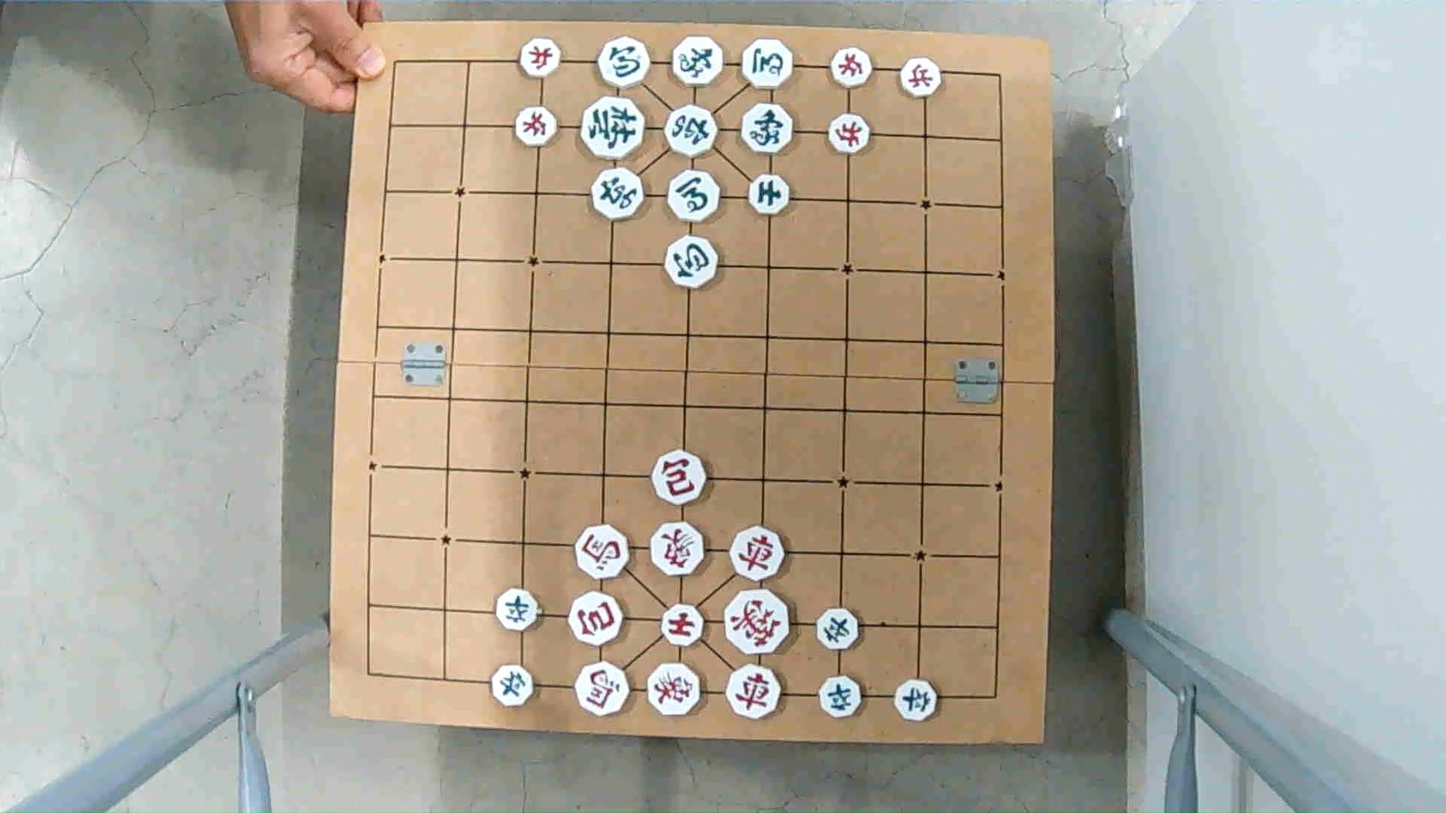cha_green: (590, 169, 645, 221), (663, 108, 720, 156)
cha_red: (726, 666, 783, 717), (727, 531, 786, 580)
jol_green: (816, 673, 863, 720), (816, 605, 862, 650), (893, 678, 939, 722), (493, 665, 537, 707), (495, 591, 539, 630)
jol_red: (826, 114, 871, 156), (898, 55, 941, 98), (828, 47, 872, 89), (514, 105, 557, 145), (521, 41, 563, 77)
ma_green: (667, 171, 722, 221), (742, 41, 796, 87)
ma_red: (575, 659, 633, 716), (574, 527, 630, 577)
po_green: (664, 236, 720, 291), (597, 40, 651, 86)
po_red: (651, 452, 708, 502), (568, 594, 624, 644)
sa_green: (750, 173, 790, 218)
sa_red: (660, 607, 705, 647)
sang_green: (670, 33, 723, 88), (743, 102, 795, 151)
sang_red: (643, 662, 698, 717), (650, 525, 707, 577)
wang_green: (581, 98, 643, 161)
wang_red: (721, 592, 792, 653)
